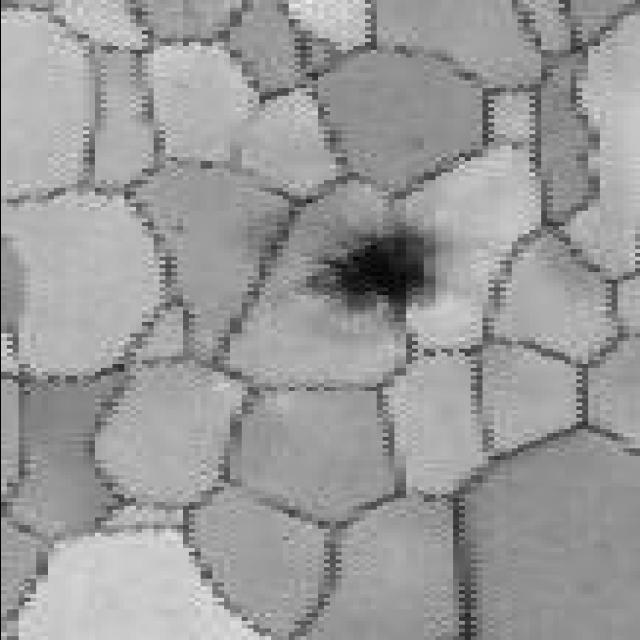good_void: (294, 228, 443, 319)
